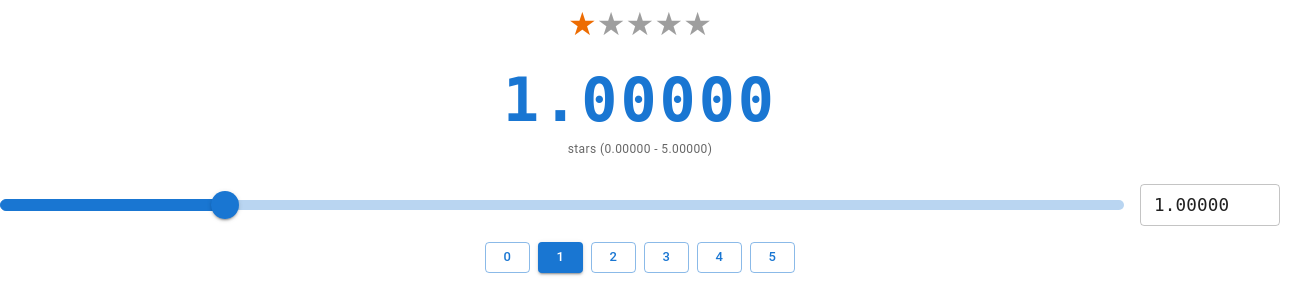
Test: PrecisionSlider › input clamps and formats on blur
Replace the text in the number field with "6" at point(1210, 205), box [1140, 184, 1280, 226]
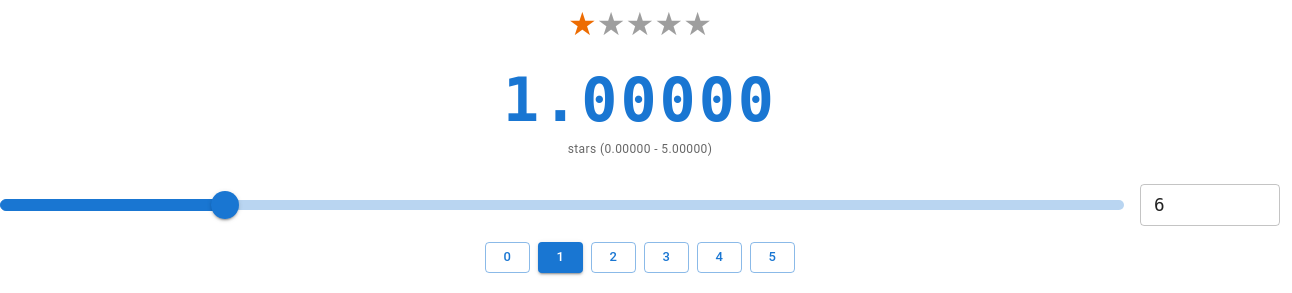
Leave the number field, box [1140, 184, 1280, 226]
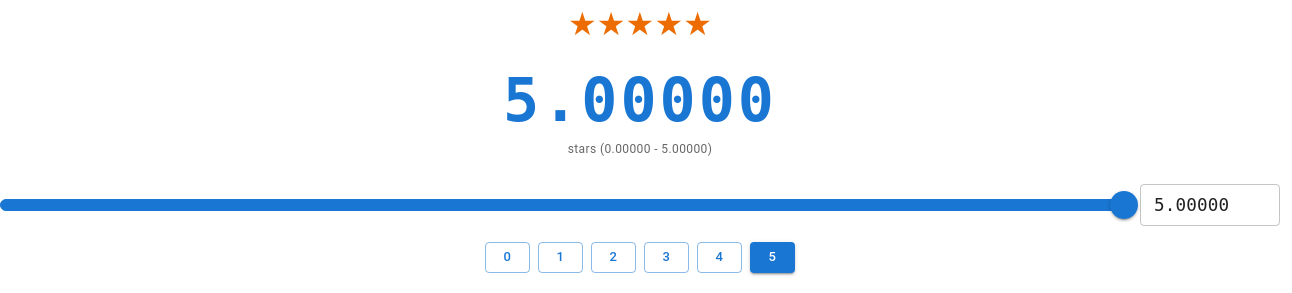
expect the heading "5.00000" is shown: met, box [503, 65, 777, 135]
